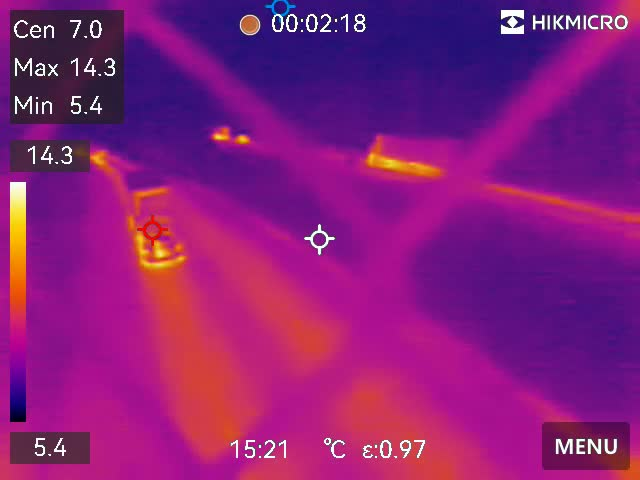heavyTruck: (116, 167, 189, 276), (361, 128, 472, 178)
